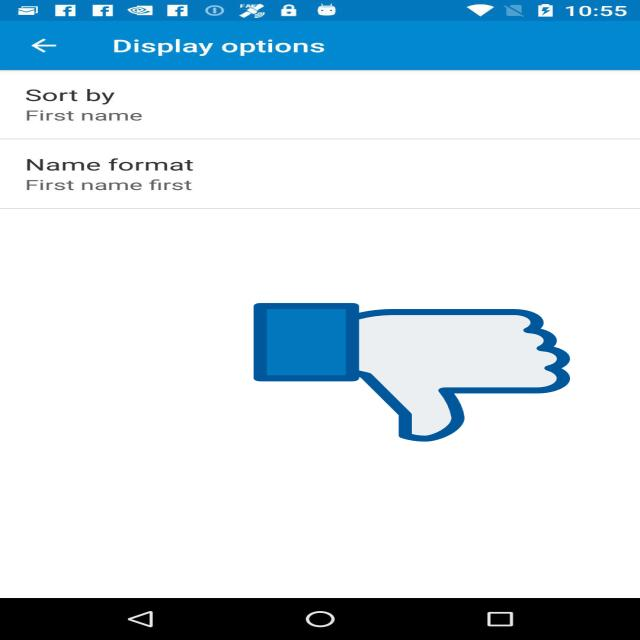obstruction: (254, 300, 570, 445)
